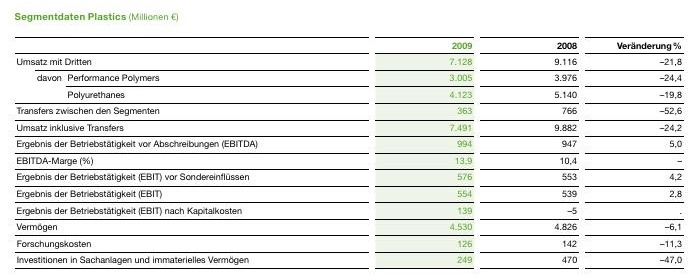table: (0, 0, 694, 279)
